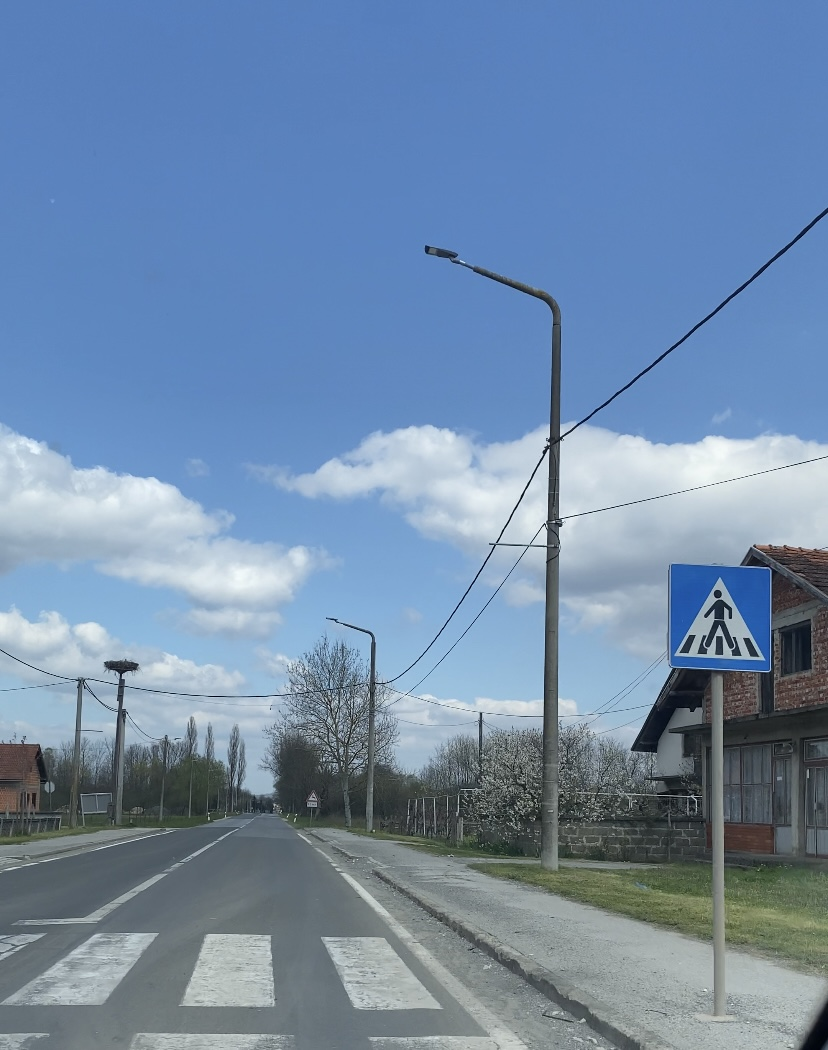Divljač na cesti: (306, 789, 321, 802)
Pješački prijelaz: (669, 564, 773, 671)
